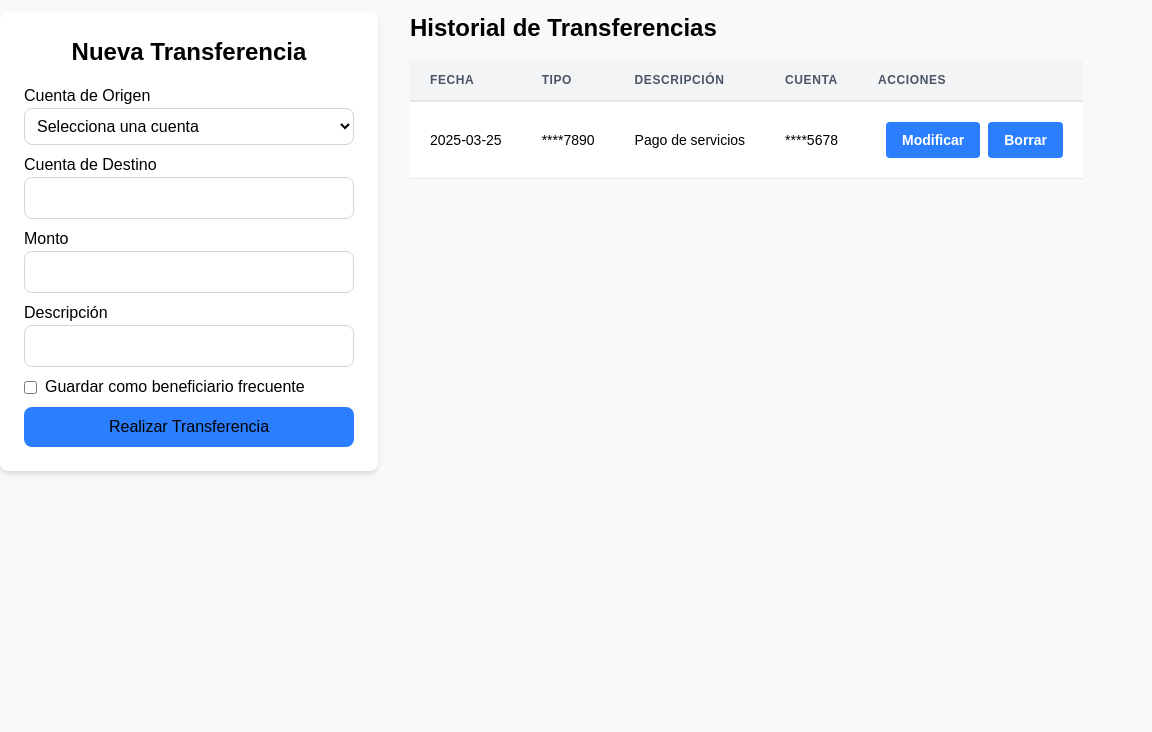
RegisterFormik › debería validar los campos requeridos
Note: Intenta enviar el formulario vacío
Click the button "Realizar Transferencia" at (189, 427), box x1=24 y1=407 x2=354 y2=447
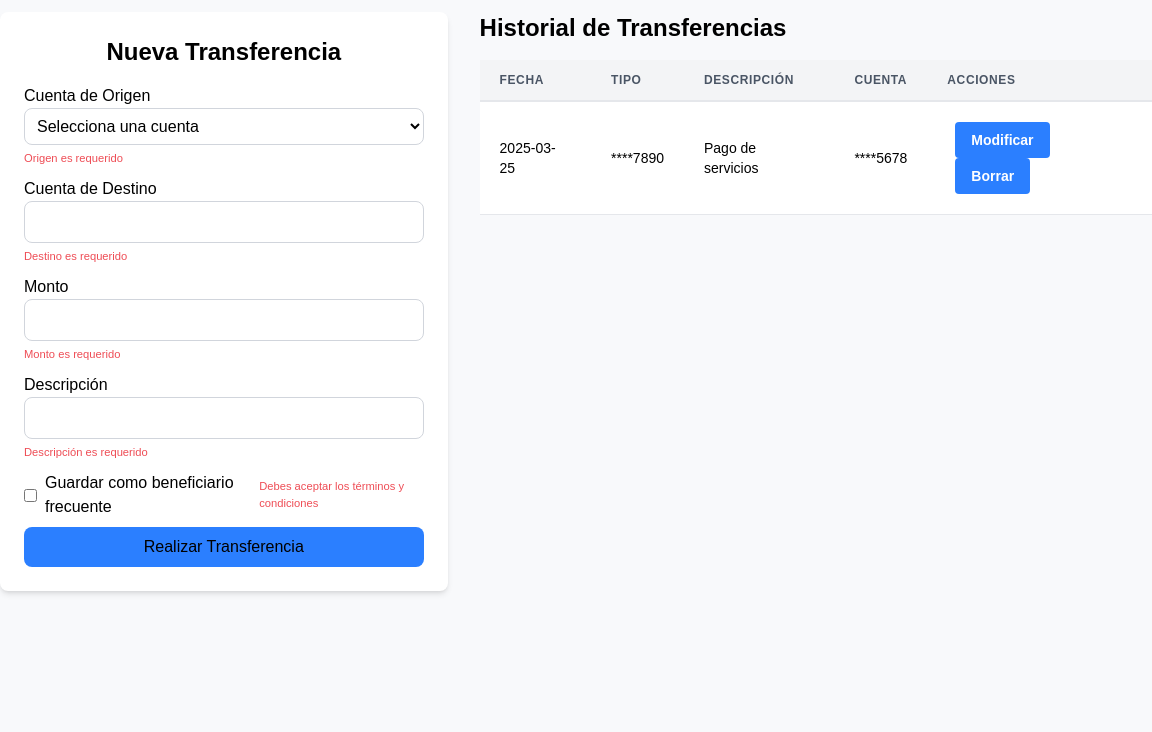
Expected: the text "Origen es requerido" is shown, x1=24 y1=152 x2=123 y2=164
Expected: the text "Destino es requerido" is shown, x1=24 y1=250 x2=127 y2=262
Expected: the text "Monto es requerido" is shown, x1=24 y1=348 x2=120 y2=360
